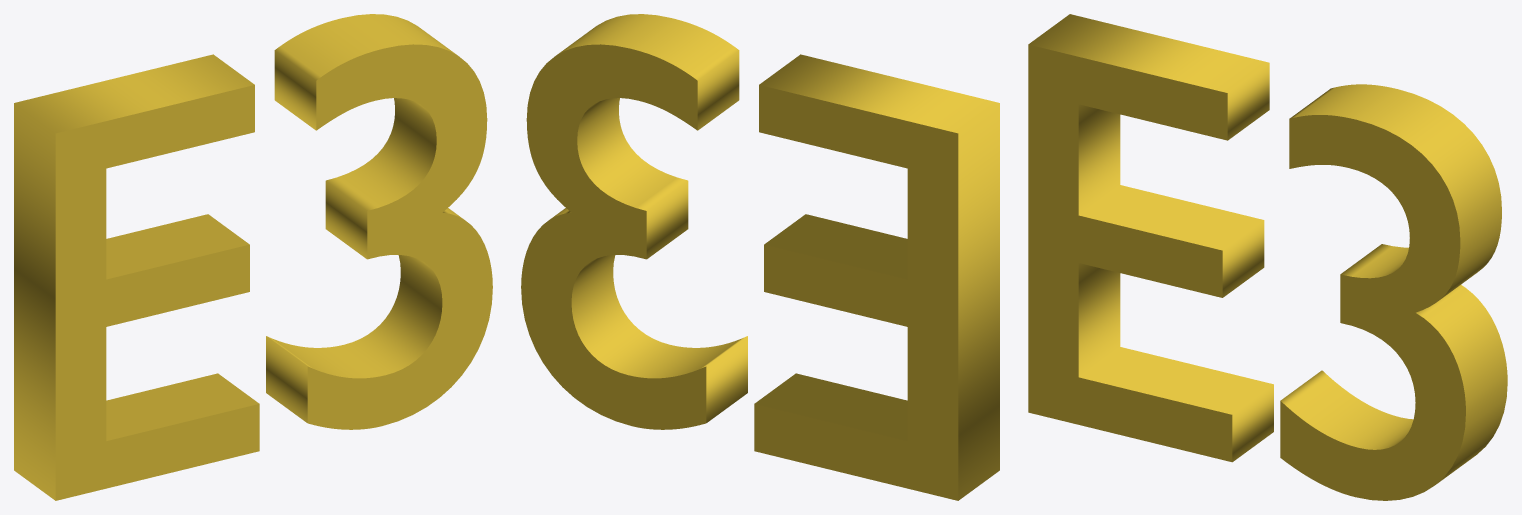
3 views of the same model, side by side, from view 1: azimuth 30°, elevation 25°; view 2: azimuth 150°, elevation 25°; view 3: azimuth 330°, elevation 25° (orthographic).
Parts seen in each view (by area): view 1: 텍스트; view 2: 텍스트; view 3: 텍스트.
Boxes of the visible parts, x1,y1,x2,y2 form: 텍스트: (14, 14, 492, 500); 텍스트: (521, 14, 999, 500); 텍스트: (1028, 14, 1507, 500).
Size of the model in its own units: 84.9 by 70 by 14.
